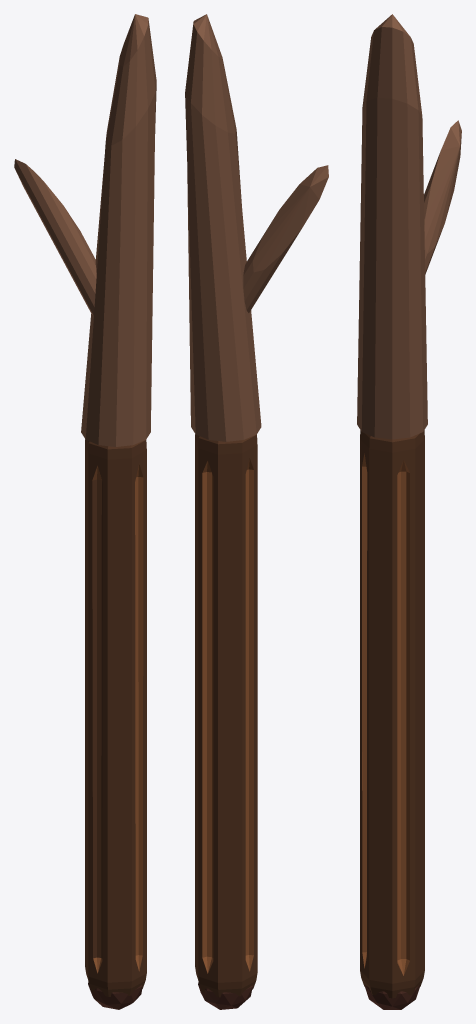
The model's file is Wand 560.glb.
The picture shows the model from 3 angles, left to right: view 1: azimuth 30°, elevation 25°; view 2: azimuth 210°, elevation 25°; view 3: azimuth 270°, elevation 25°; orthographic projection.
Parts seen in each view (by area): view 1: GeneratedWand; view 2: GeneratedWand; view 3: GeneratedWand.
Part boxes in pixels (x1=…): GeneratedWand: x1=14, y1=14, x2=156, y2=1009; GeneratedWand: x1=185, y1=14, x2=328, y2=1009; GeneratedWand: x1=357, y1=14, x2=461, y2=1009.
Size of the model in its own units: 0.0578 by 0.4922 by 0.0466.
